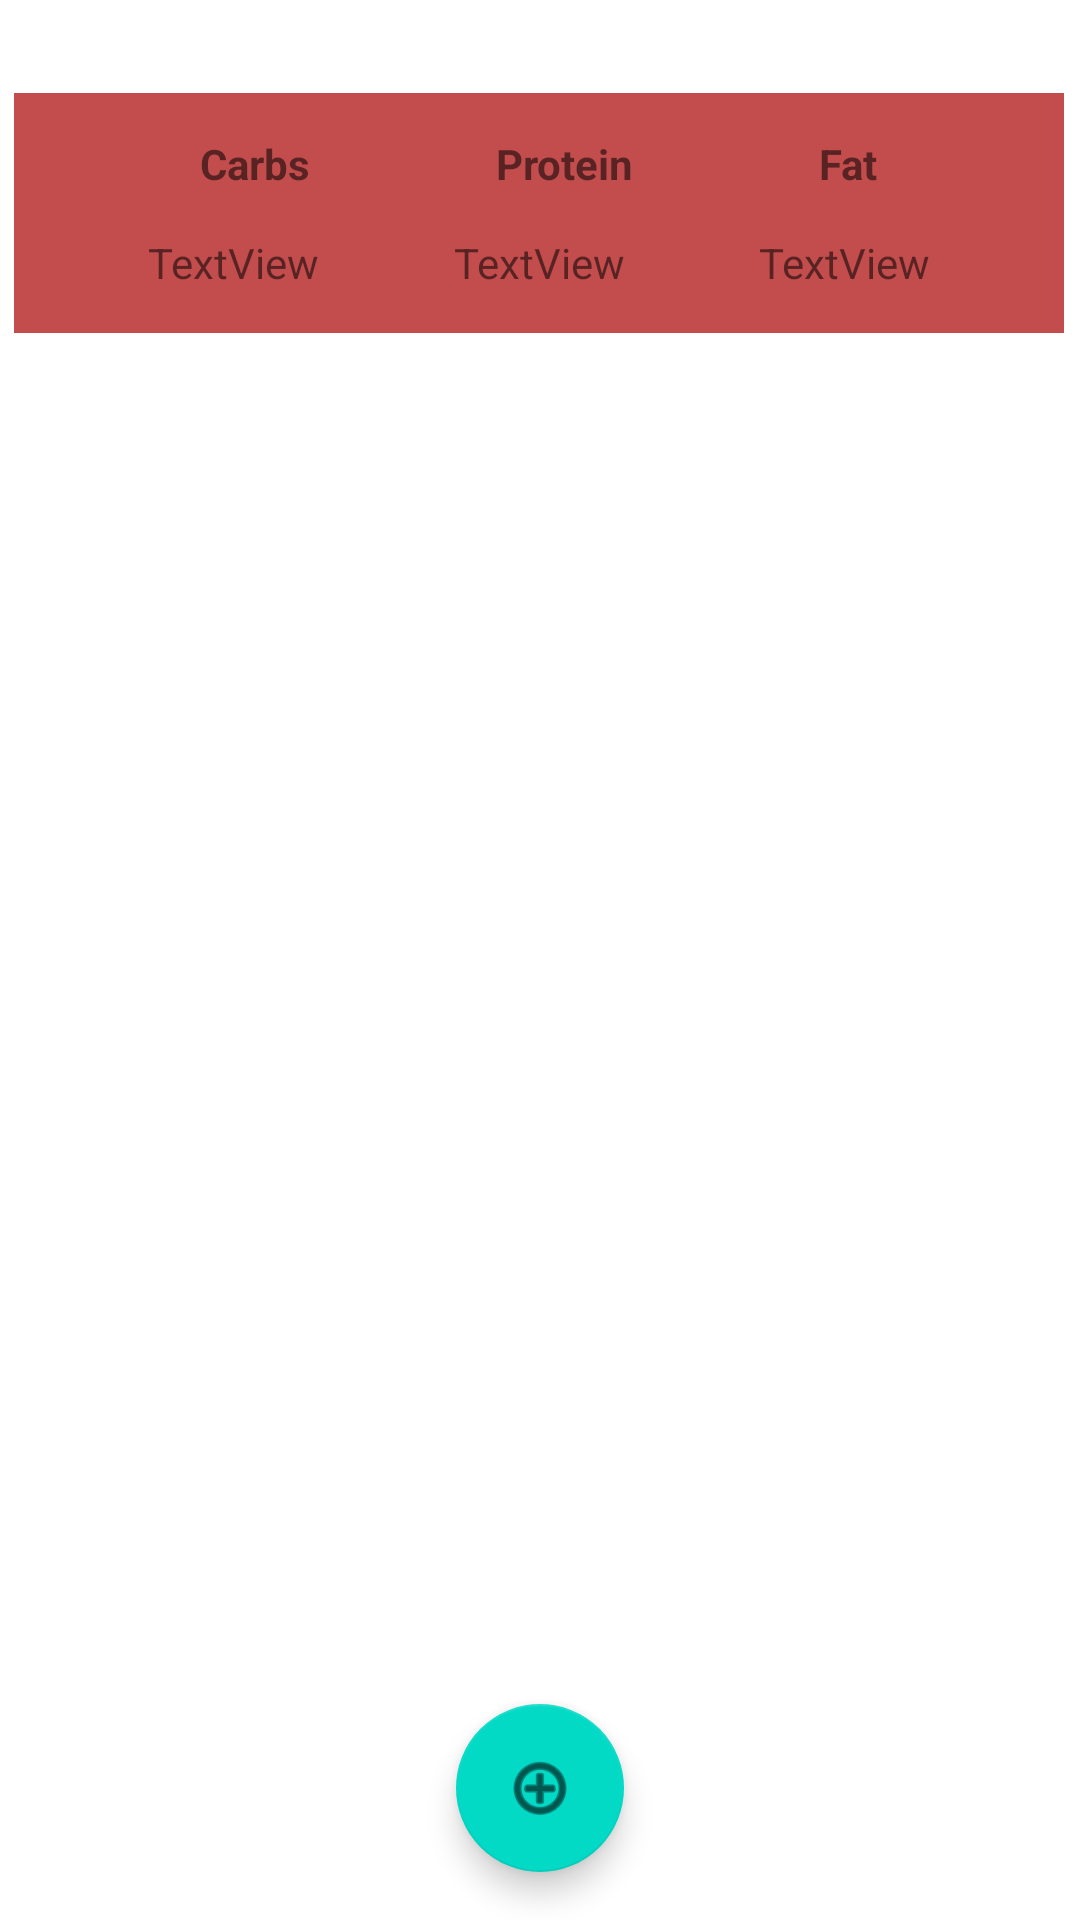

Where to tap for icons on this 1080x1920 app screen, as point (x, y):
add: point (540, 1788)
